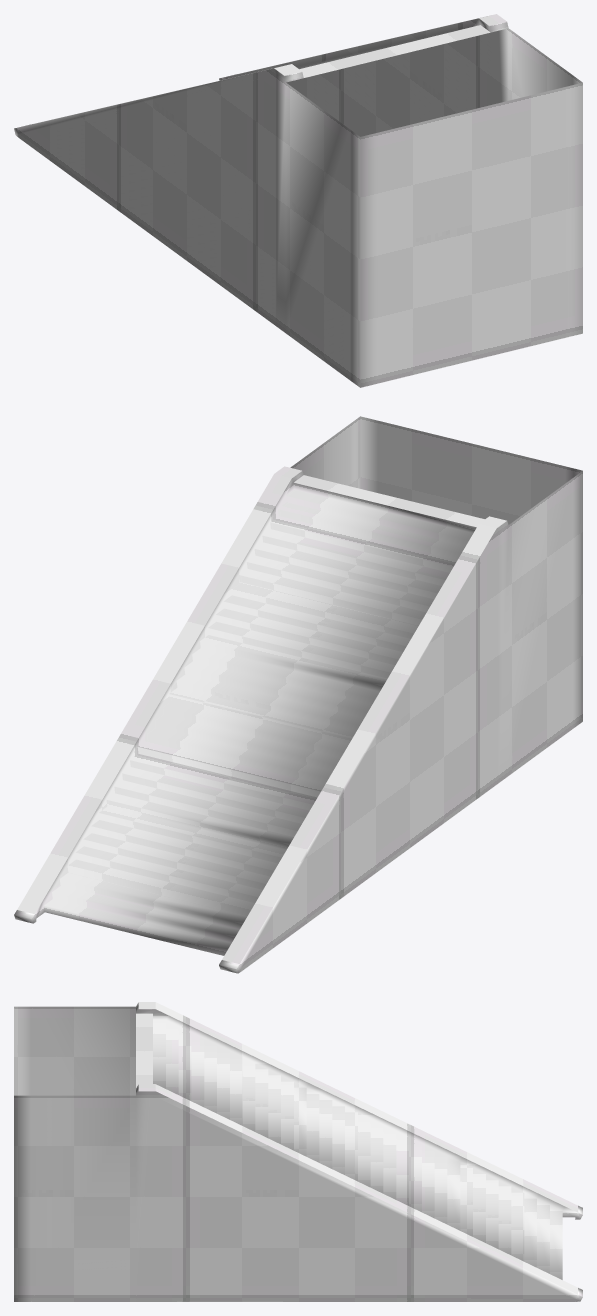
File: CitWards_Stairs_A.FBX
3 views of the same model, one above another, from view 1: azimuth 30°, elevation 25°; view 2: azimuth 150°, elevation 25°; view 3: azimuth 270°, elevation 25° (orthographic). The views are drawn at different scales.
Visible parts, largest first — view 1: CitWards_Stairs_A; view 2: CitWards_Stairs_A; view 3: CitWards_Stairs_A.
Boxes of the visible parts, x1,y1,x2,y2 form: CitWards_Stairs_A: (14,14,582,387); CitWards_Stairs_A: (14,416,582,973); CitWards_Stairs_A: (14,1002,582,1301).
Bounding box in the file's own units: 3.76 × 4.14 × 10.13.
